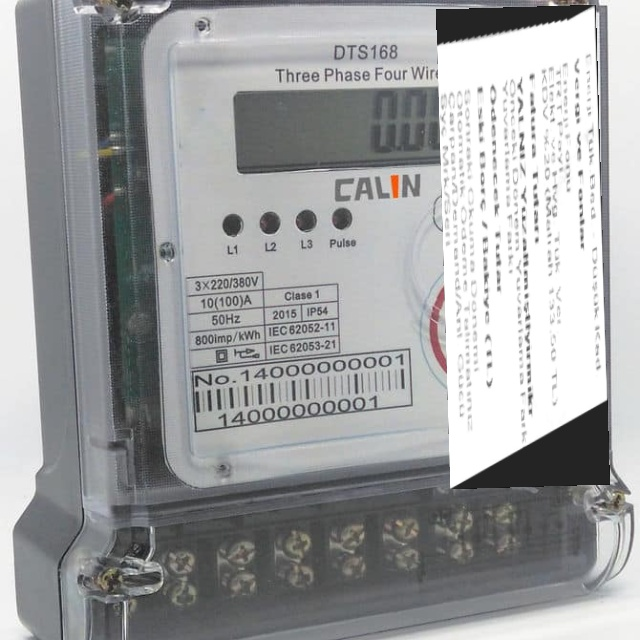electricity-bill: (435, 4, 609, 488)
